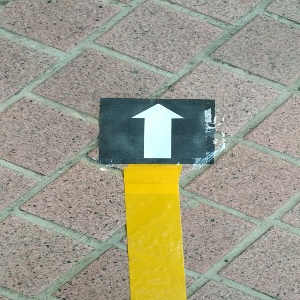straight: (100, 98, 214, 164)
